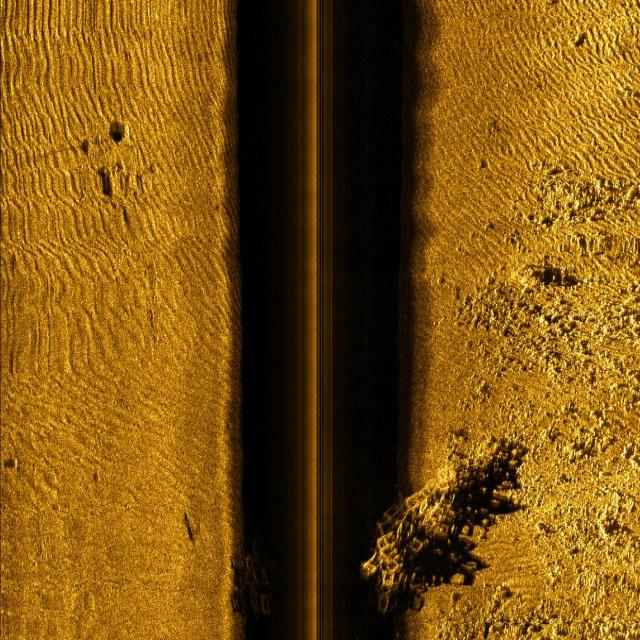artificial reef: (359, 434, 510, 616), (237, 548, 285, 632)
